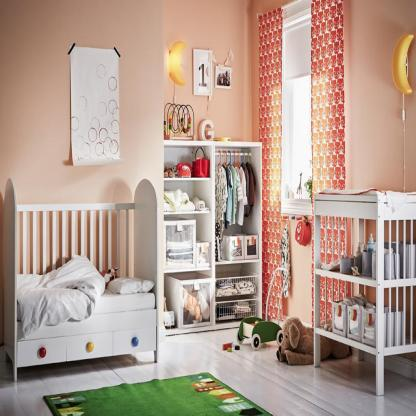Bed: (2, 173, 162, 382)
Carpet: (258, 7, 290, 323), (311, 0, 347, 207)
